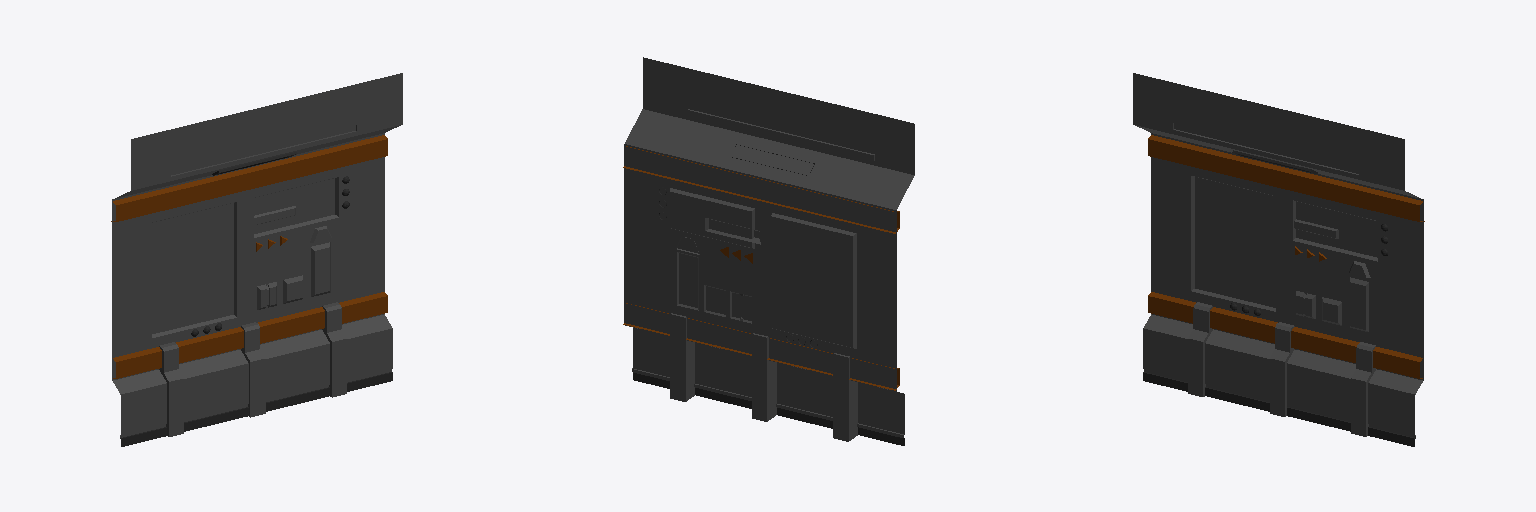
The model's file is Wall_1.obj.
3 renders of one model, left to right at view 1: azimuth 30°, elevation 25°; view 2: azimuth 150°, elevation 25°; view 3: azimuth 330°, elevation 25°, orthographic.
Parts seen in each view (by area): view 1: Wall_1_Plane.063; view 2: Wall_1_Plane.063; view 3: Wall_1_Plane.063.
Part boxes in pixels (x1,y1,x2,y2): Wall_1_Plane.063: (111,73,402,446); Wall_1_Plane.063: (623,57,914,445); Wall_1_Plane.063: (1133,73,1424,446).
Bounding box in the file's own units: 4 × 4.43 × 0.5447.